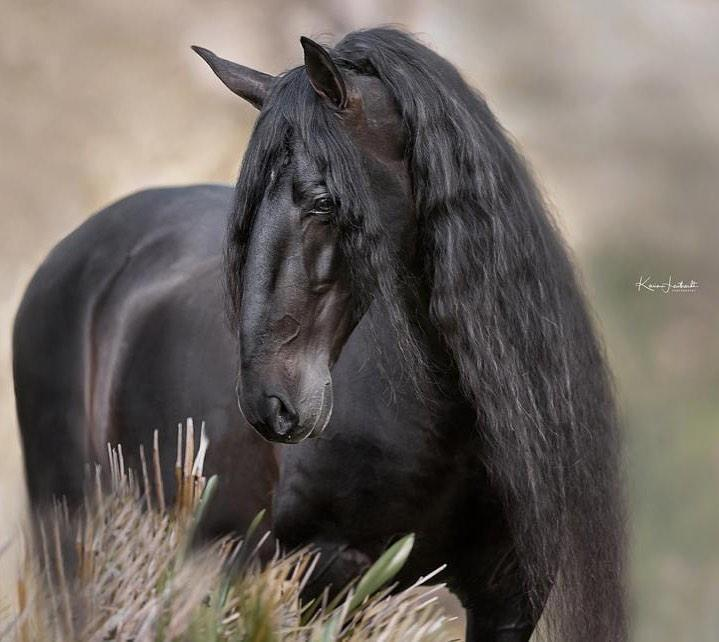horse: (13, 27, 631, 641)
